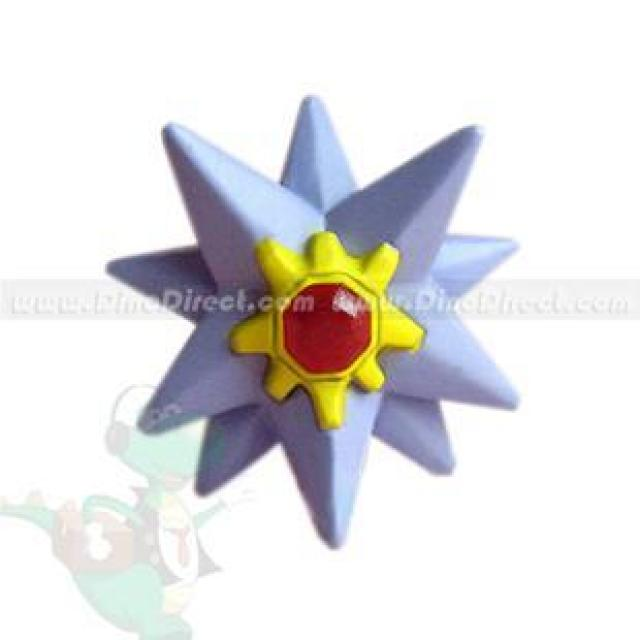Starmie: (162, 118, 489, 494)
